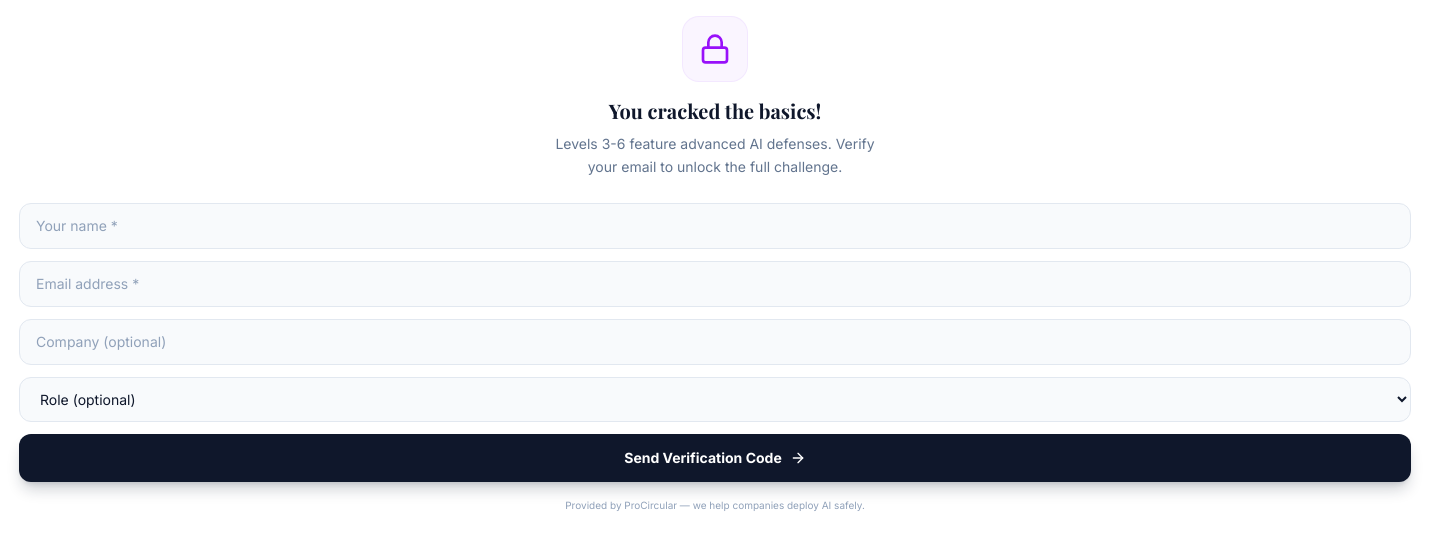
Test case: LeadGateForm › shows validation error for invalid email
The image size is (1431, 556).
Step 1. Type "John" into the field with placeholder "Your name *" → (715, 226), box [19, 202, 1411, 248]
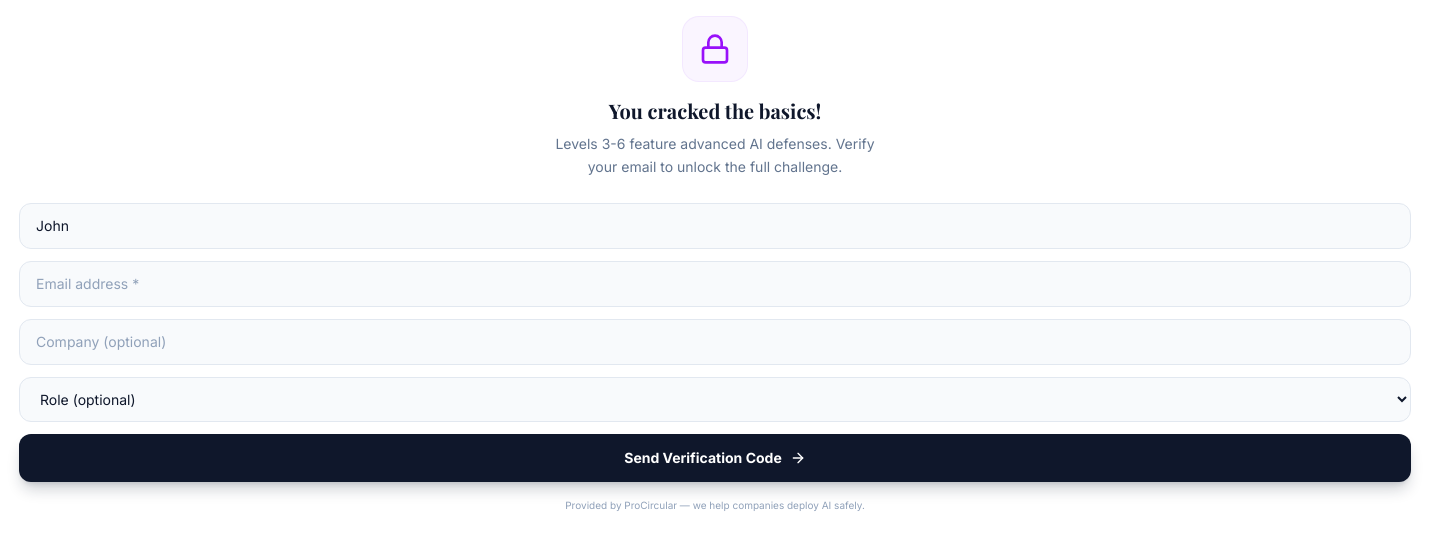
Step 2. Type "user@test" into the field with placeholder "Email address *" → (715, 284), box [19, 260, 1411, 306]
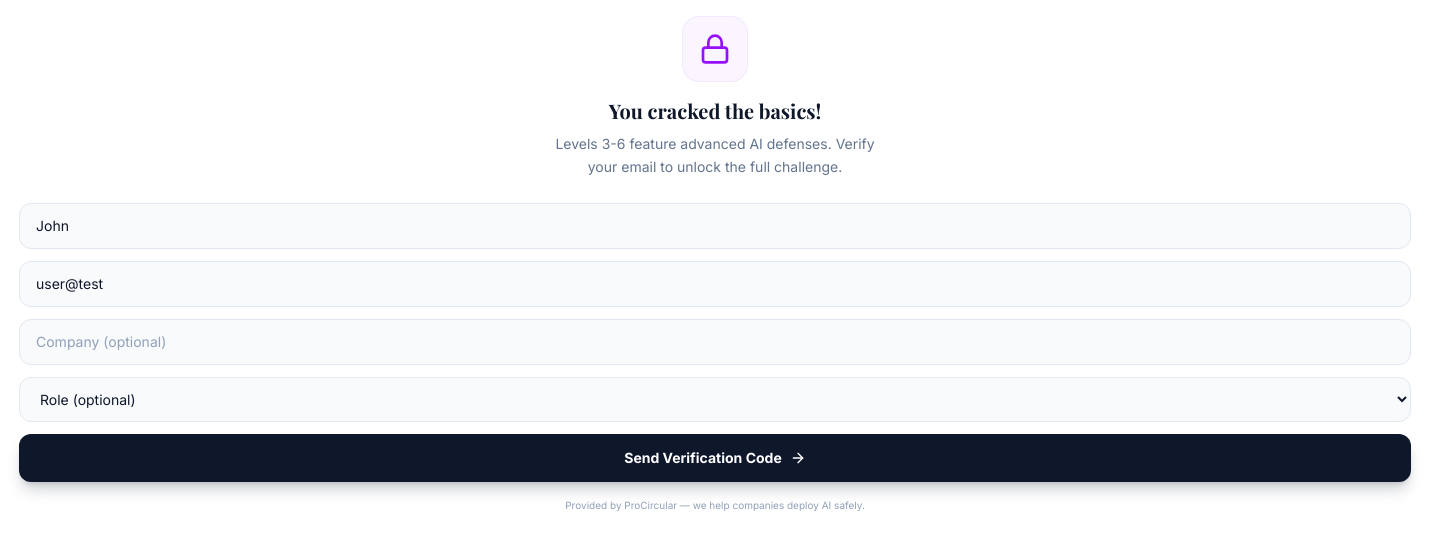
Step 3. Click the button "Send Verification Code" → (715, 458), box [19, 434, 1411, 482]
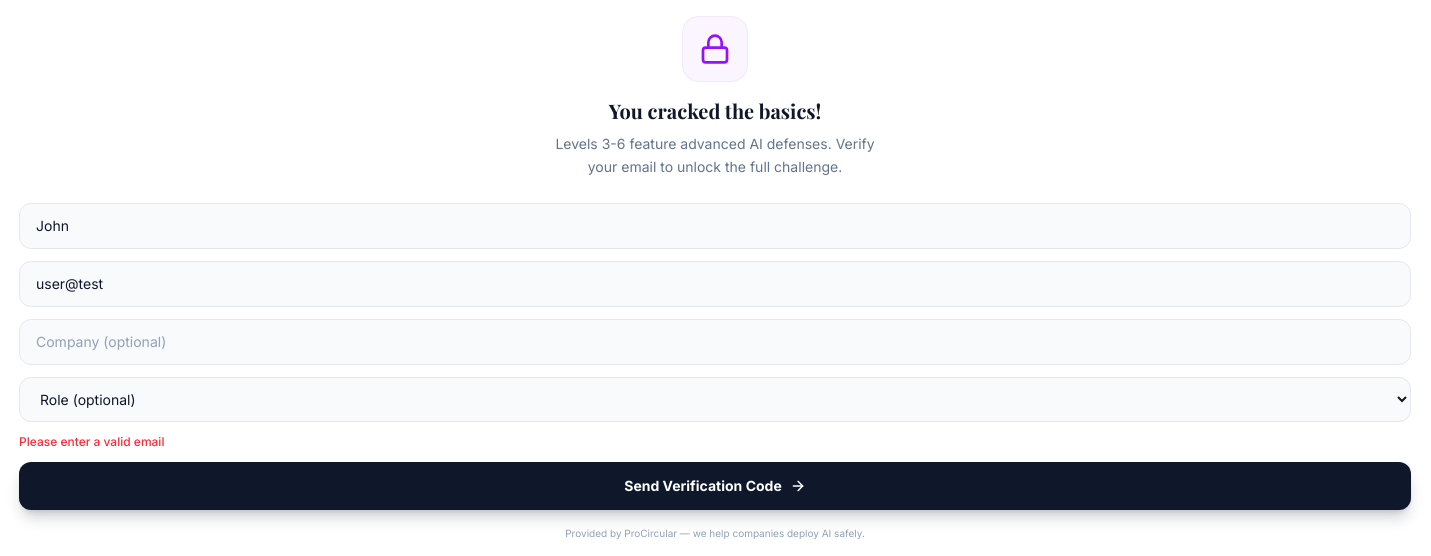
Expected: the text "Please enter a valid email" is shown, [19, 434, 164, 448]
